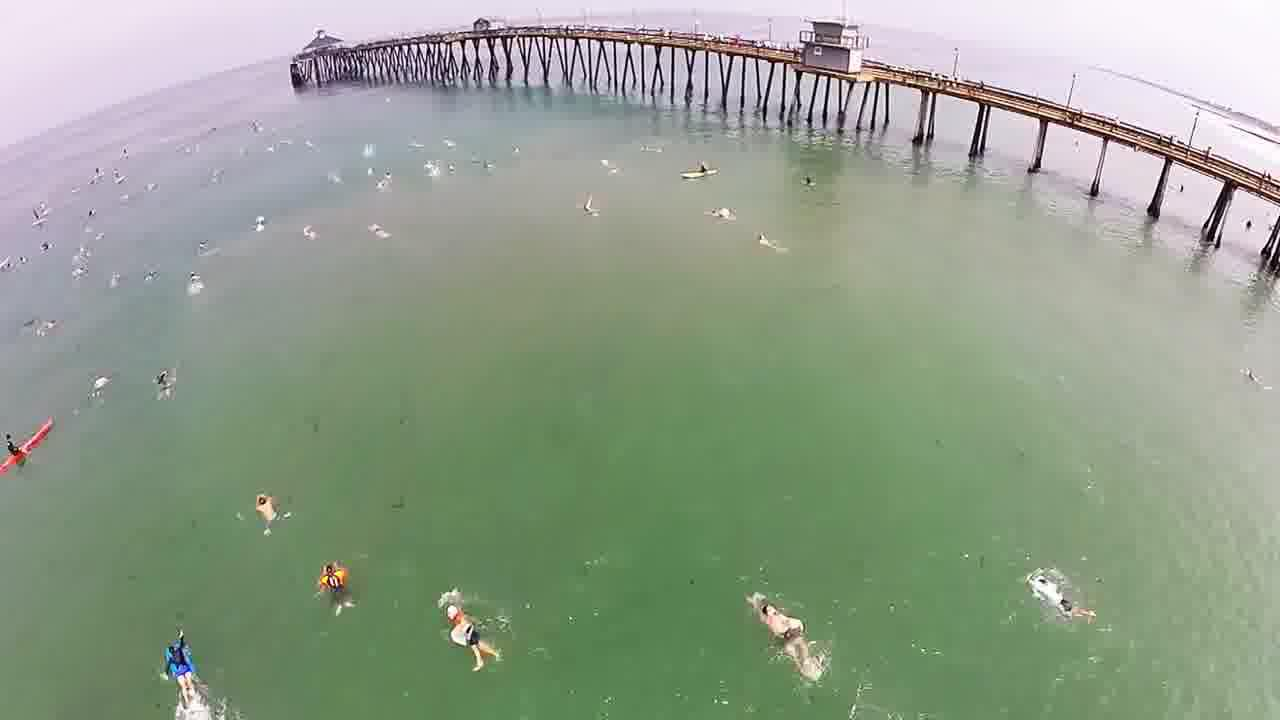human: (744, 586, 836, 679), (1017, 559, 1098, 627), (239, 481, 300, 538)
